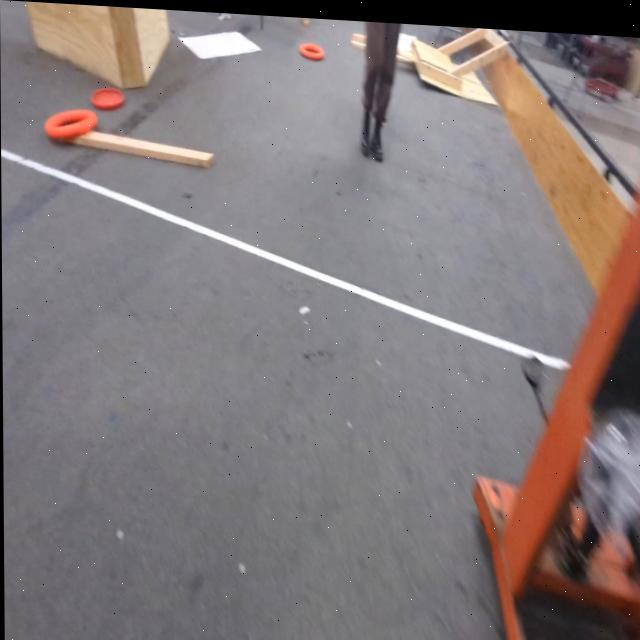note: (44, 105, 99, 143), (299, 38, 325, 59)
